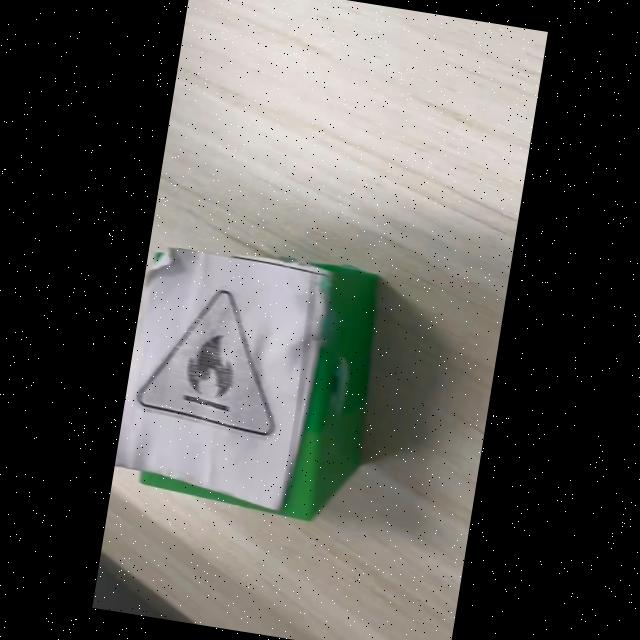Fire: (136, 289, 275, 436)
